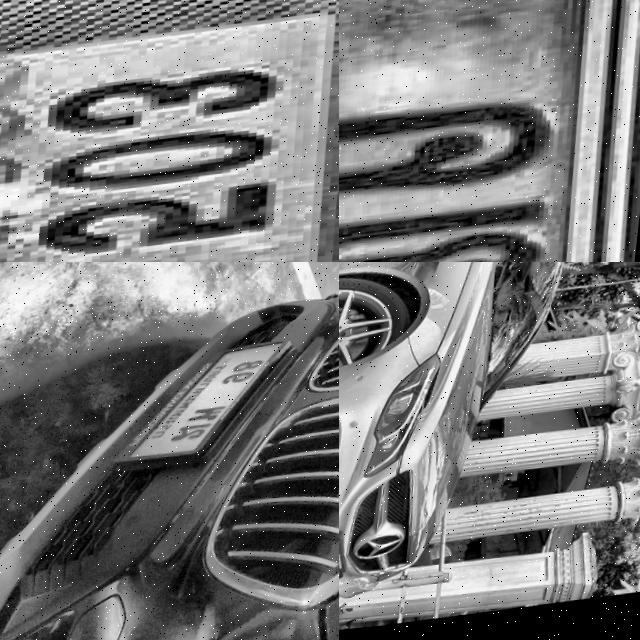license-plate: (0, 0, 339, 262), (339, 0, 640, 262), (115, 344, 305, 470), (339, 536, 364, 591)
